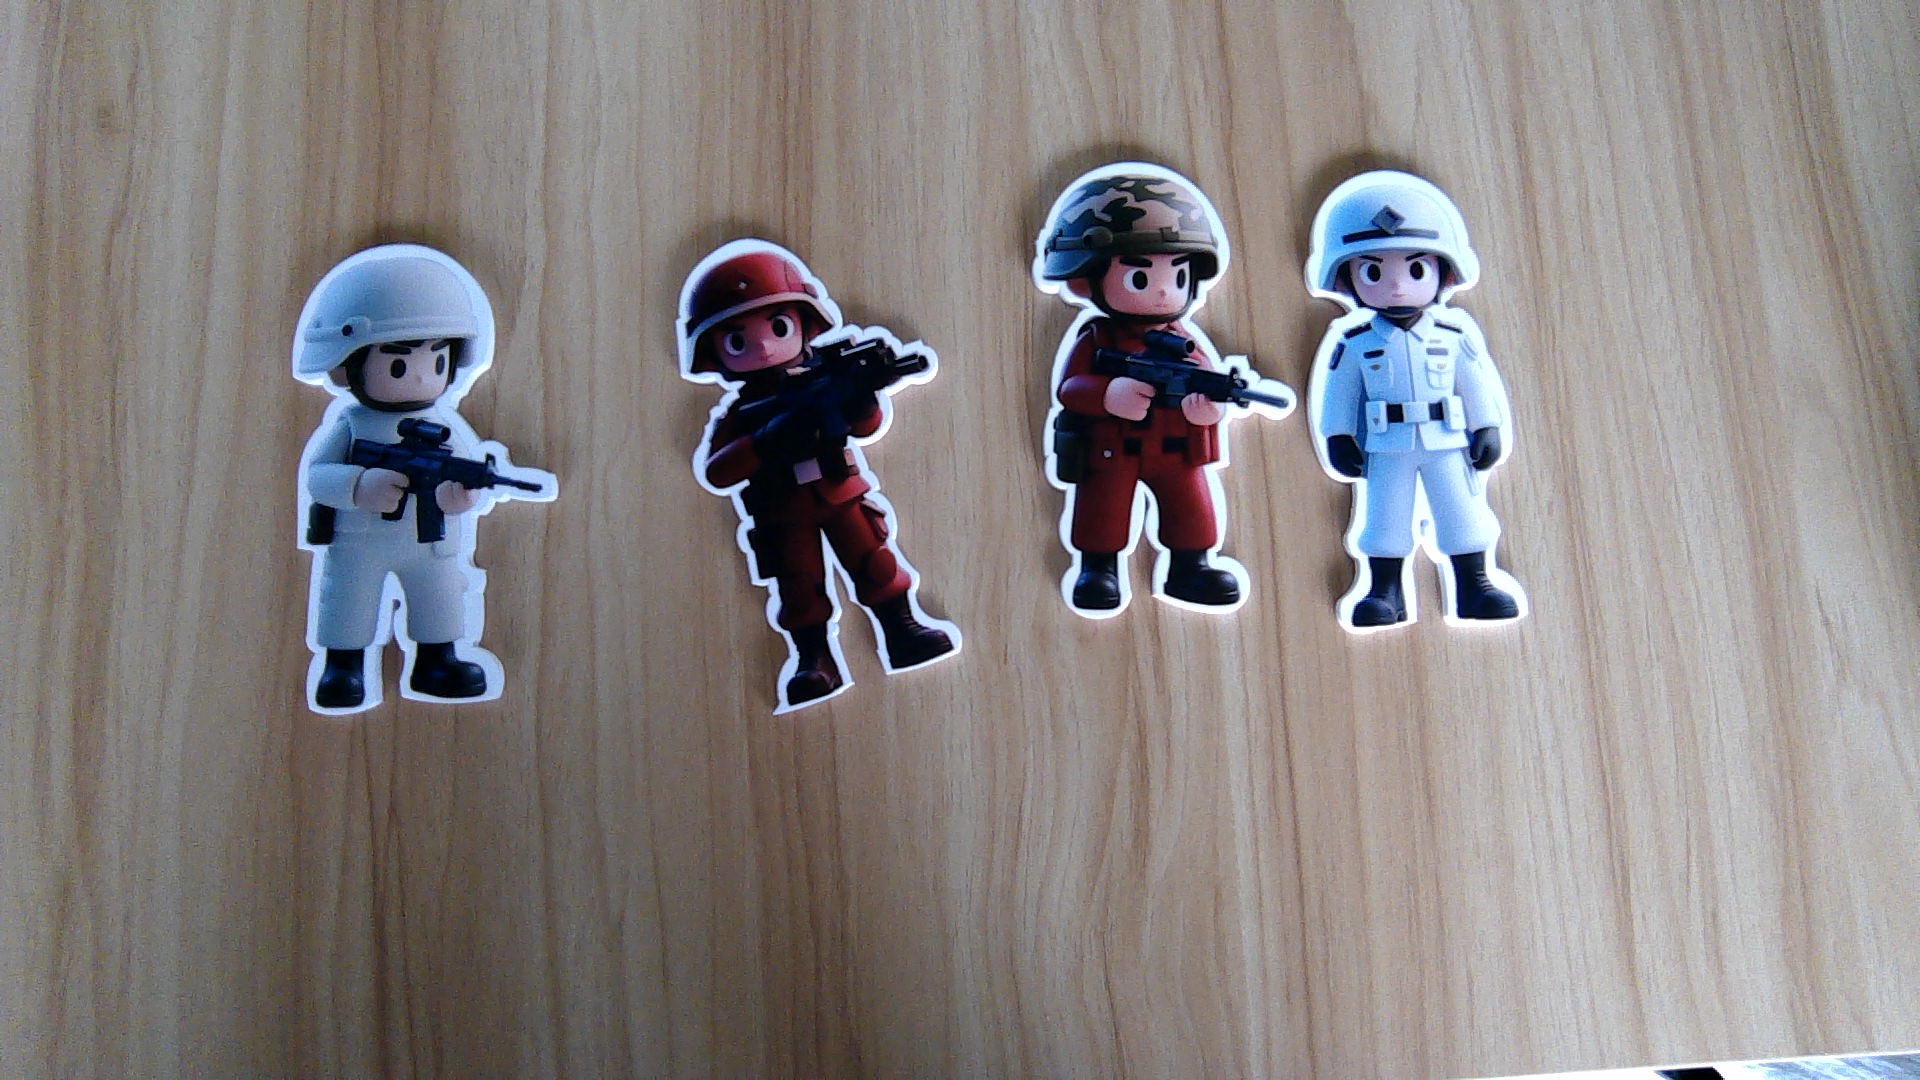人质: (284, 405, 563, 717), (1304, 313, 1532, 640)
敌人1: (680, 381, 965, 717), (1036, 315, 1295, 621)
